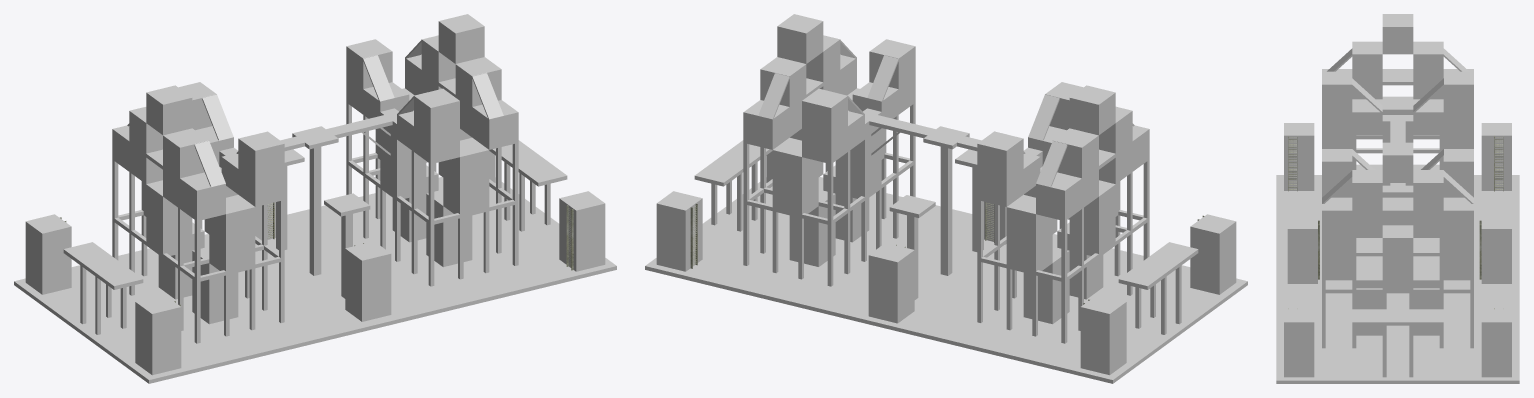
Rendered from SM_Stroke_02_Block_00.fbx.
3 views of the same model, side by side, from view 1: azimuth 30°, elevation 25°; view 2: azimuth 150°, elevation 25°; view 3: azimuth 270°, elevation 25° (orthographic). The views are drawn at different scales.
Visible parts, largest first — view 1: SM_Stroke_02_Block_00, SM_Stroke_02_ladders; view 2: SM_Stroke_02_Block_00, SM_Stroke_02_ladders; view 3: SM_Stroke_02_Block_00, SM_Stroke_02_ladders.
Boxes of the visible parts, x1,y1,x2,y2 form: SM_Stroke_02_Block_00: (14,14,616,383); SM_Stroke_02_ladders: (60,202,573,306); SM_Stroke_02_Block_00: (645,14,1247,383); SM_Stroke_02_ladders: (690,202,1204,304); SM_Stroke_02_Block_00: (1276,14,1519,383); SM_Stroke_02_ladders: (1288,135,1503,309).
Bounding box in the file's own units: 12800 × 5700 × 6400.
